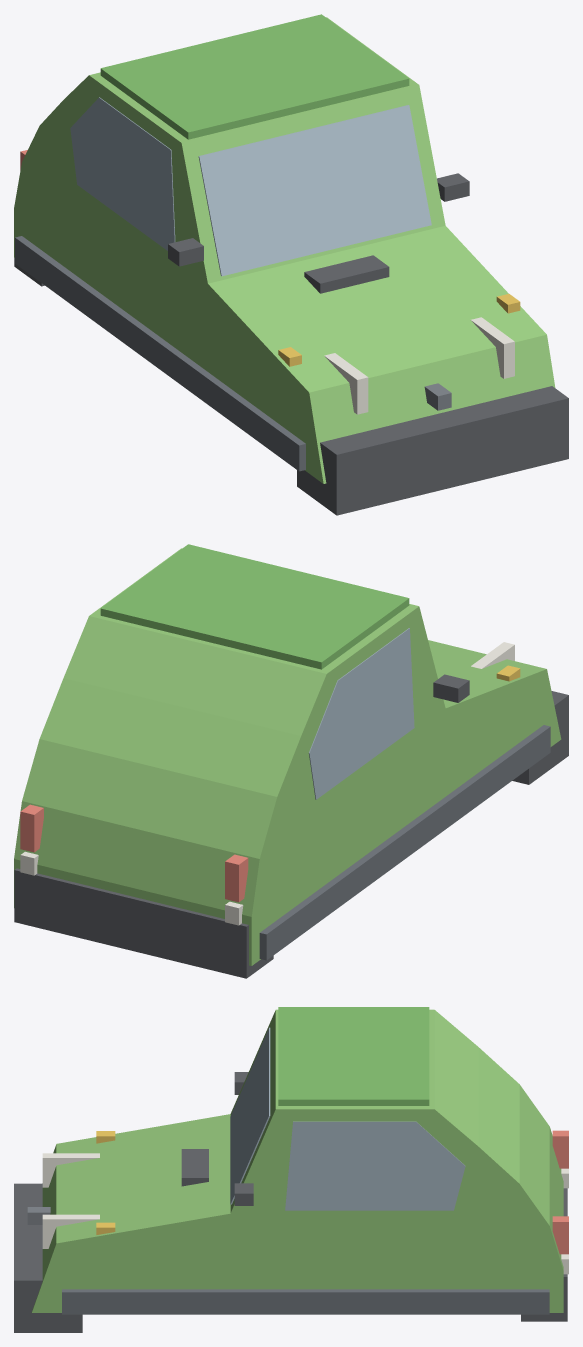
Rendered from AutoNPC_Carroceria.fbx.
3 renders of one model, top to bottom at view 1: azimuth 30°, elevation 25°; view 2: azimuth 150°, elevation 25°; view 3: azimuth 270°, elevation 25°, orthographic. The views are drawn at different scales.
Visible parts, largest first — view 1: AutoNPC_Carroceria, AutoNPC_Carroceria.001, Plane, AutoNPC_Carroceria.004, AutoNPC_Carroceria.005, AutoNPC_Carroceria.010, AutoNPC_Carroceria.009; view 2: AutoNPC_Carroceria, AutoNPC_Carroceria.002, Plane, AutoNPC_Carroceria.004, AutoNPC_Carroceria.008, AutoNPC_Carroceria.001, AutoNPC_Carroceria.007, AutoNPC_Carroceria.005; view 3: AutoNPC_Carroceria, Plane.001, AutoNPC_Carroceria.003, AutoNPC_Carroceria.001, AutoNPC_Carroceria.005, AutoNPC_Carroceria.008, AutoNPC_Carroceria.010, AutoNPC_Carroceria.002, AutoNPC_Carroceria.009.
Part boxes in pixels (<box>): AutoNPC_Carroceria: <box>14,14,555,483</box>; AutoNPC_Carroceria.001: <box>297,386,568,515</box>; Plane: <box>70,97,175,250</box>; AutoNPC_Carroceria.004: <box>15,236,305,471</box>; AutoNPC_Carroceria.005: <box>324,317,514,414</box>; AutoNPC_Carroceria.010: <box>304,255,389,293</box>; AutoNPC_Carroceria.009: <box>278,294,520,366</box>; AutoNPC_Carroceria: <box>14,544,561,965</box>; AutoNPC_Carroceria.002: <box>14,868,273,978</box>; Plane: <box>308,628,414,799</box>; AutoNPC_Carroceria.004: <box>259,725,550,960</box>; AutoNPC_Carroceria.008: <box>20,804,248,902</box>; AutoNPC_Carroceria.001: <box>512,691,568,784</box>; AutoNPC_Carroceria.007: <box>20,851,243,925</box>; AutoNPC_Carroceria.005: <box>471,642,514,668</box>; AutoNPC_Carroceria: <box>31,1007,563,1312</box>; Plane.001: <box>285,1121,465,1210</box>; AutoNPC_Carroceria.003: <box>62,1289,549,1314</box>; AutoNPC_Carroceria.001: <box>14,1183,82,1332</box>; AutoNPC_Carroceria.005: <box>42,1153,99,1248</box>; AutoNPC_Carroceria.008: <box>552,1130,568,1254</box>; AutoNPC_Carroceria.010: <box>181,1149,208,1186</box>; AutoNPC_Carroceria.002: <box>521,1188,567,1321</box>; AutoNPC_Carroceria.009: <box>96,1131,115,1234</box>.
Size of the model in its own units: 210 by 186 by 405.
